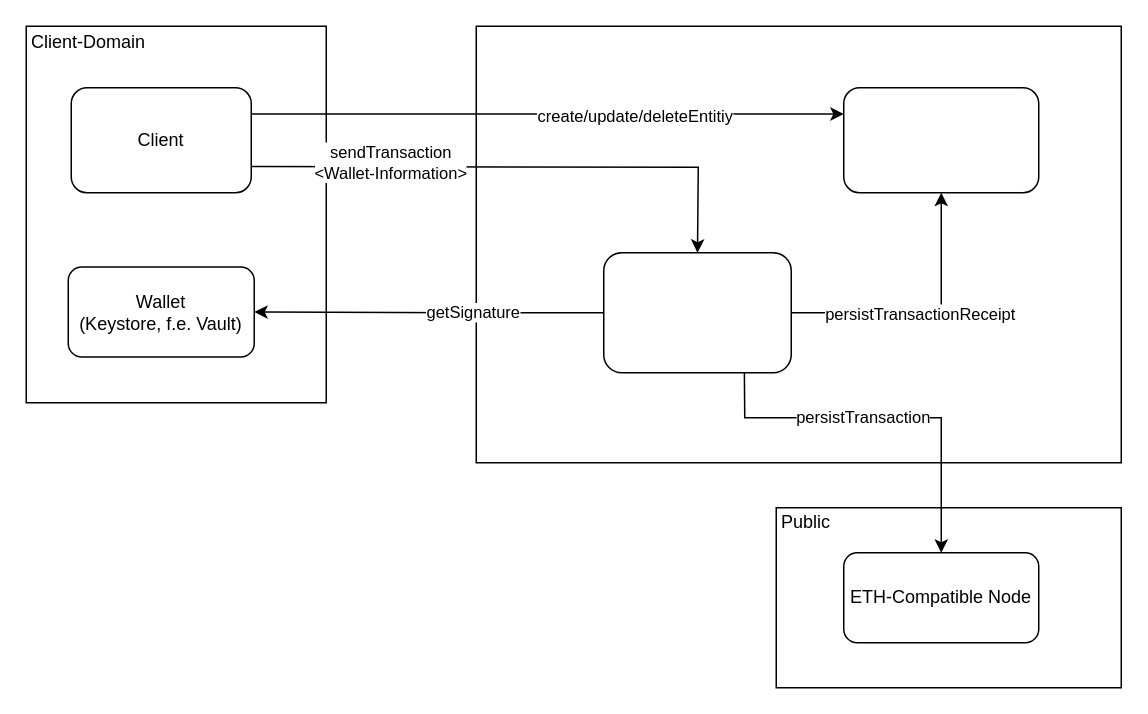
Image size: 1148x714. Some labels were removed from this diagram. The box of each missing label's shape, as (x1, y1, x2, y2) in pixels:
CanisMajor: (602, 251, 791, 373)
CanisMajor-Domain: (475, 25, 1121, 463)
ContextBroker (f.e. orion-ld): (842, 86, 1039, 193)
